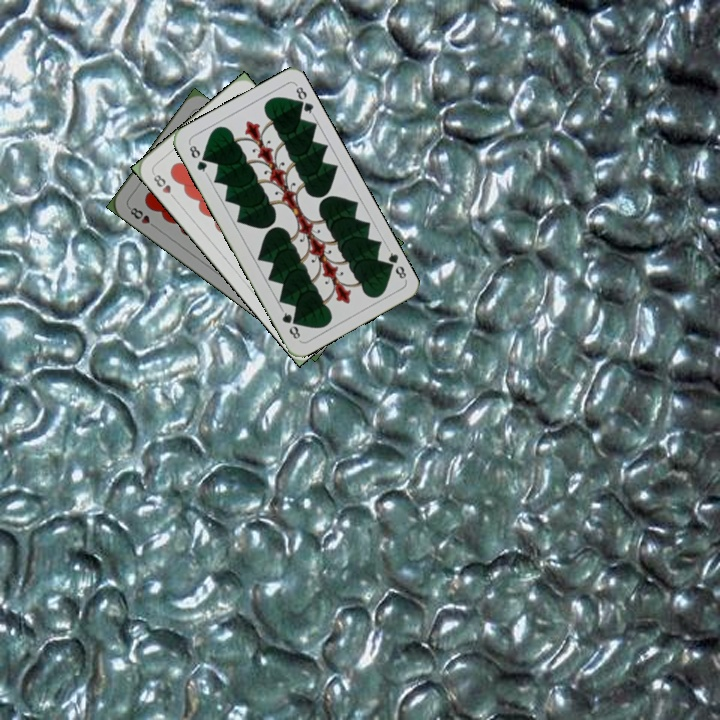G8: (381, 245, 409, 283), (185, 140, 210, 177)
H8: (149, 169, 179, 203), (124, 203, 160, 231)
